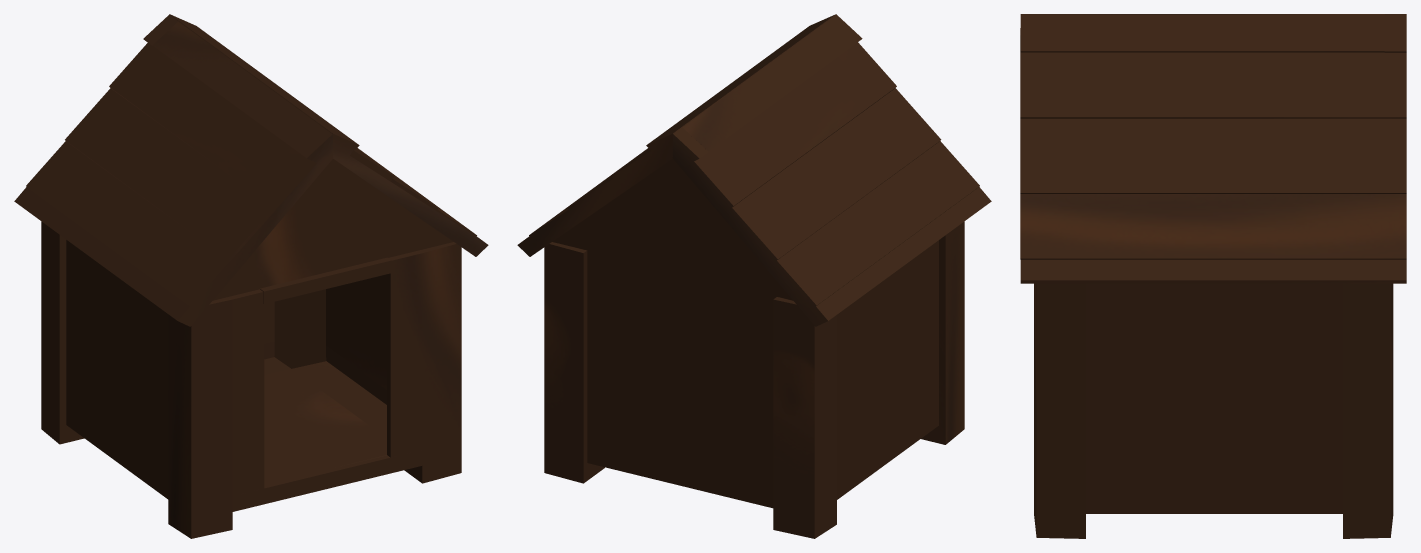
File: Buda.fbx
3 views of the same model, side by side, from view 1: azimuth 30°, elevation 25°; view 2: azimuth 150°, elevation 25°; view 3: azimuth 270°, elevation 25° (orthographic). The views are drawn at different scales.
Visible parts, largest first — view 1: Cube; view 2: Cube; view 3: Cube.
Boxes of the visible parts, box(x1,y1,x2,y2) form: Cube: box(14, 14, 488, 538); Cube: box(517, 14, 991, 538); Cube: box(1020, 14, 1406, 538).
Size of the model in its own units: 362 by 420 by 330.
